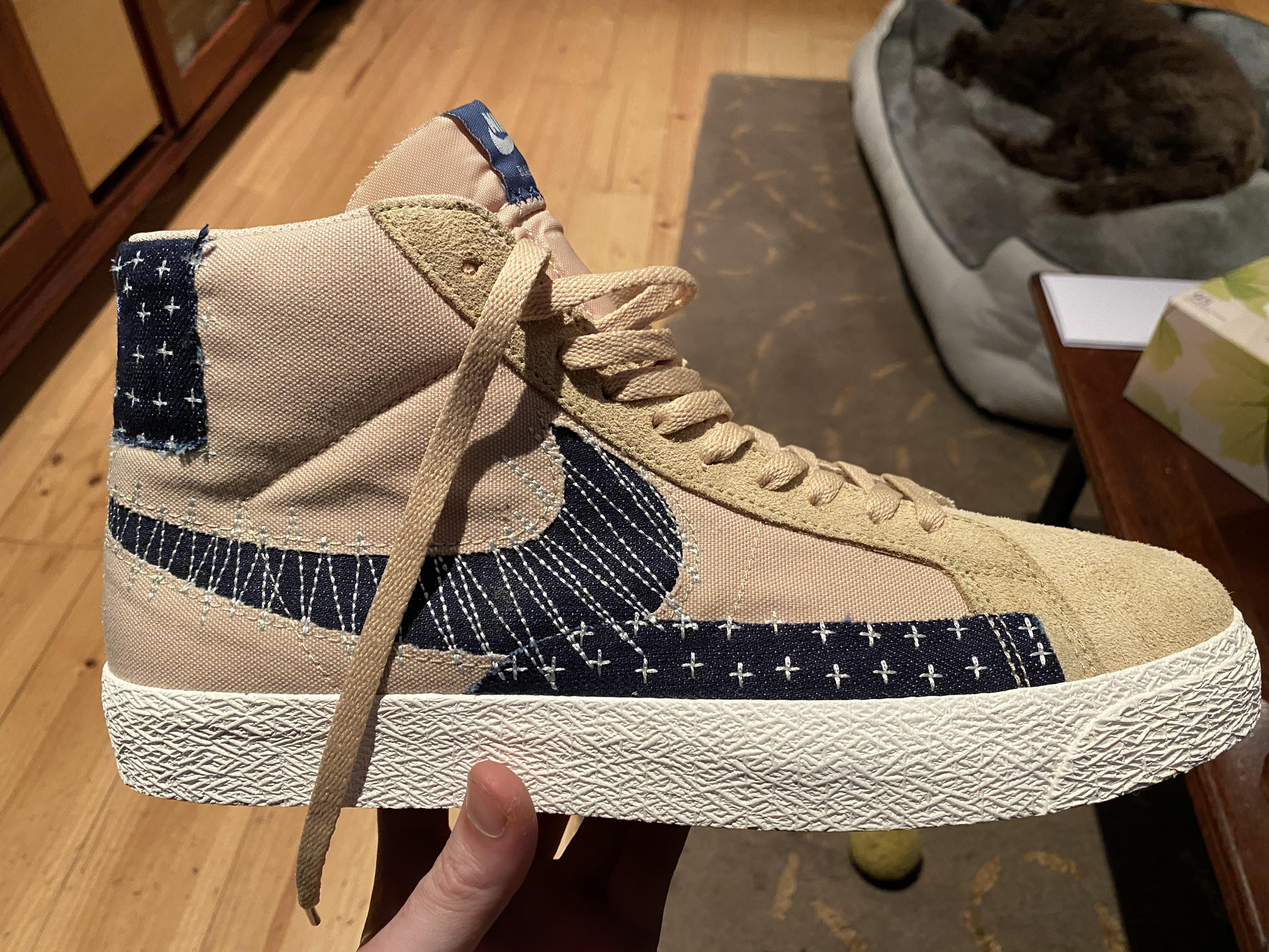sneaker: (100, 99, 1265, 824)
